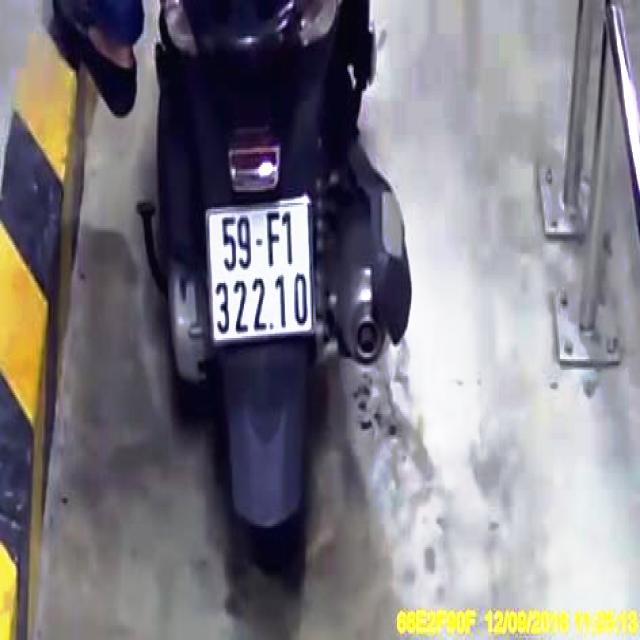license_plate: (209, 200, 317, 341)
